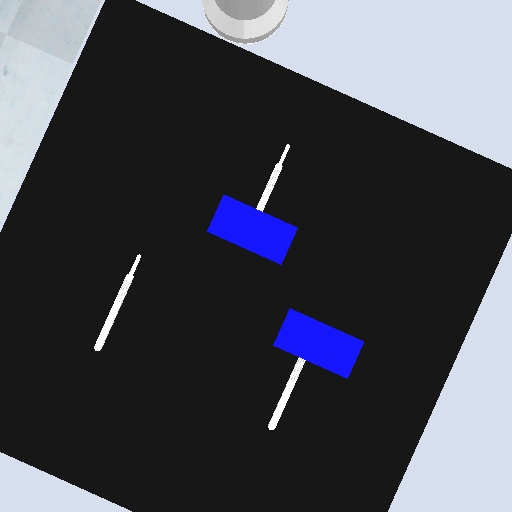bisturi: (90, 252, 149, 355), (264, 356, 312, 432), (254, 140, 294, 214)
